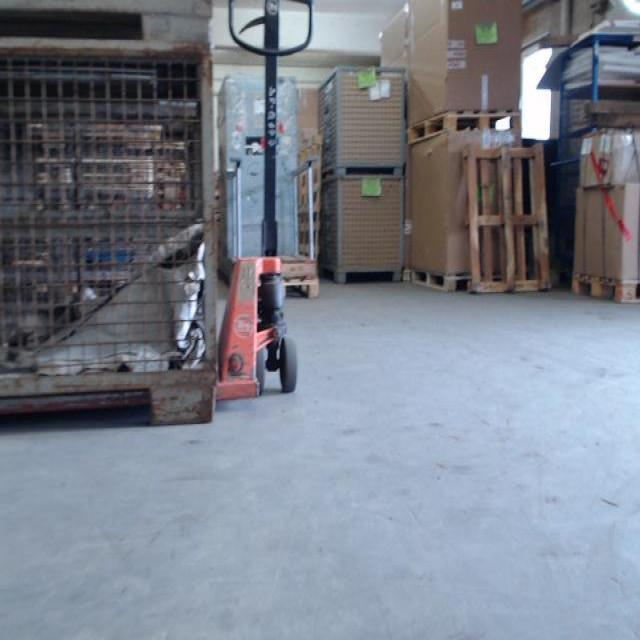pallet: (463, 145, 553, 294), (408, 107, 523, 147), (298, 133, 321, 269), (571, 271, 640, 307), (410, 265, 475, 295), (275, 277, 321, 302)
pallet_truck: (217, 0, 313, 404)
stillage: (1, 37, 218, 424), (314, 59, 418, 174), (327, 169, 414, 285), (1, 2, 216, 35)
